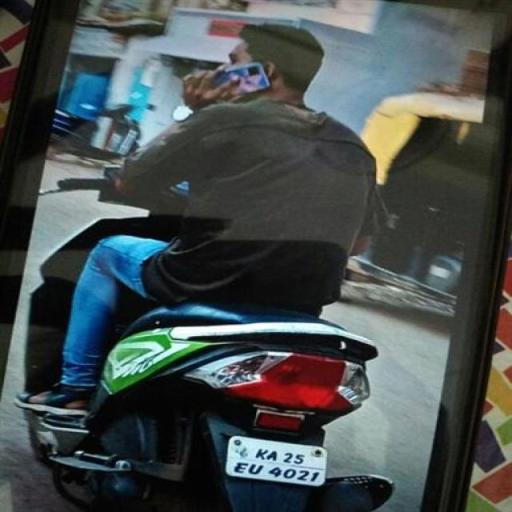numberplate: (223, 432, 335, 497)
using mobile: (179, 61, 274, 104)
